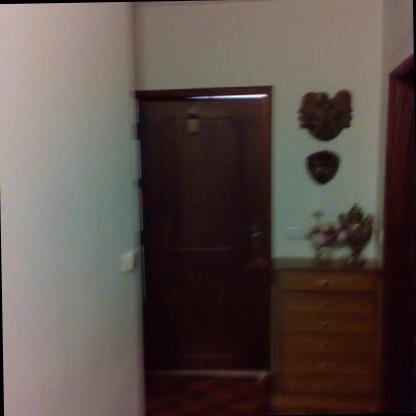closed: (122, 78, 294, 387)
